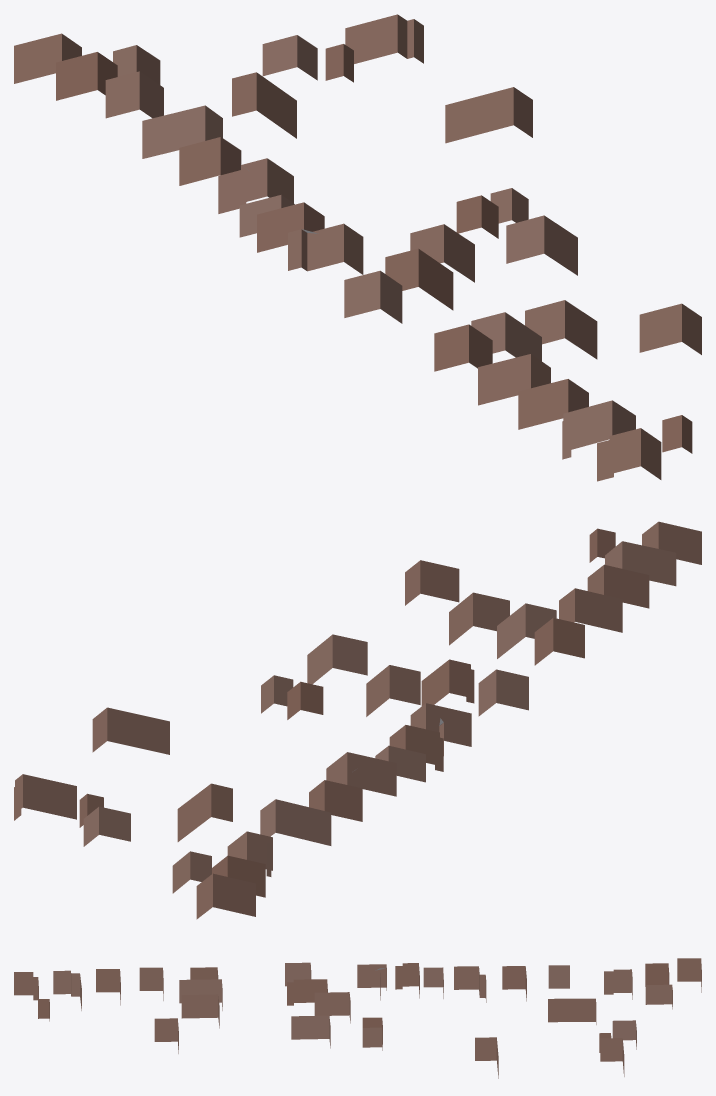
Rendered from c_1635_17820_buildings_residential.glb.
3 views of the same model, one above another, from view 1: azimuth 30°, elevation 25°; view 2: azimuth 150°, elevation 25°; view 3: azimuth 270°, elevation 25° (orthographic). The views are drawn at different scales.
Parts seen in each view (by area): view 1: geometry_0; view 2: geometry_0; view 3: geometry_0.
Boxes of the visible parts, <box> form: geometry_0: <box>14,14,701,481</box>; geometry_0: <box>14,521,701,919</box>; geometry_0: <box>14,958,701,1078</box>.
Bounding box in the file's own units: 86.95 × 10.88 × 254.
